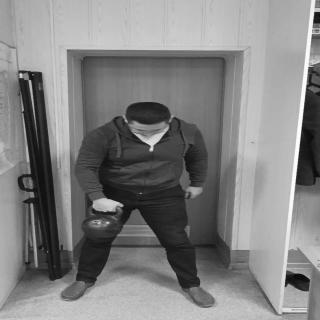kettlebell: (80, 205, 126, 240)
